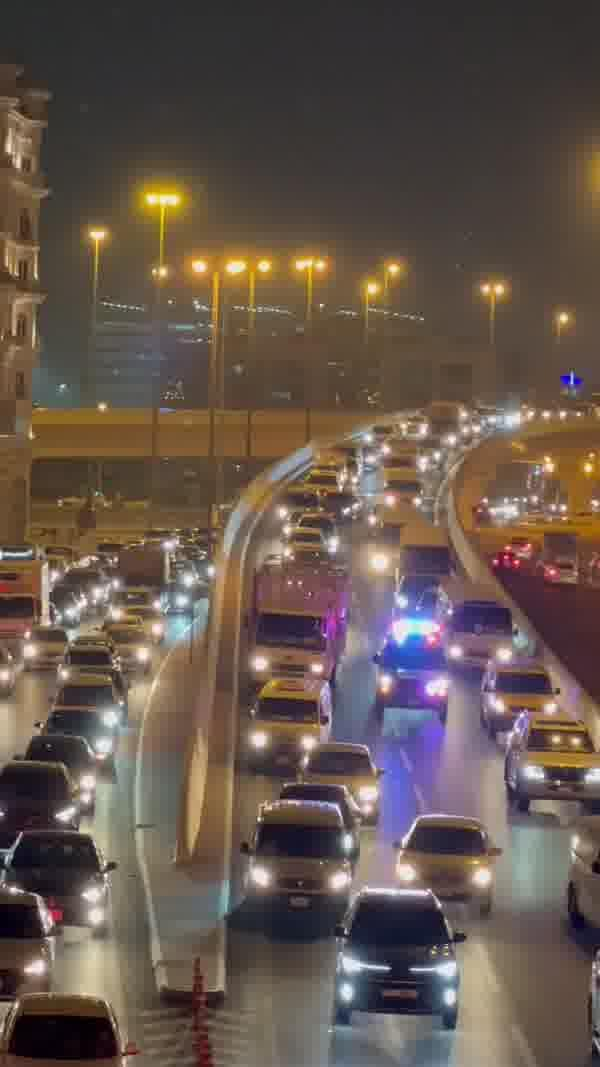AMBULANCE: (368, 621, 451, 720)
